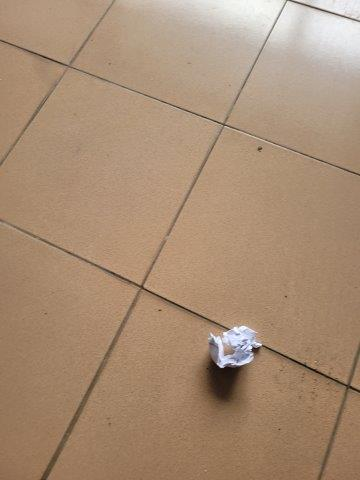kertas: (208, 327, 262, 369)
